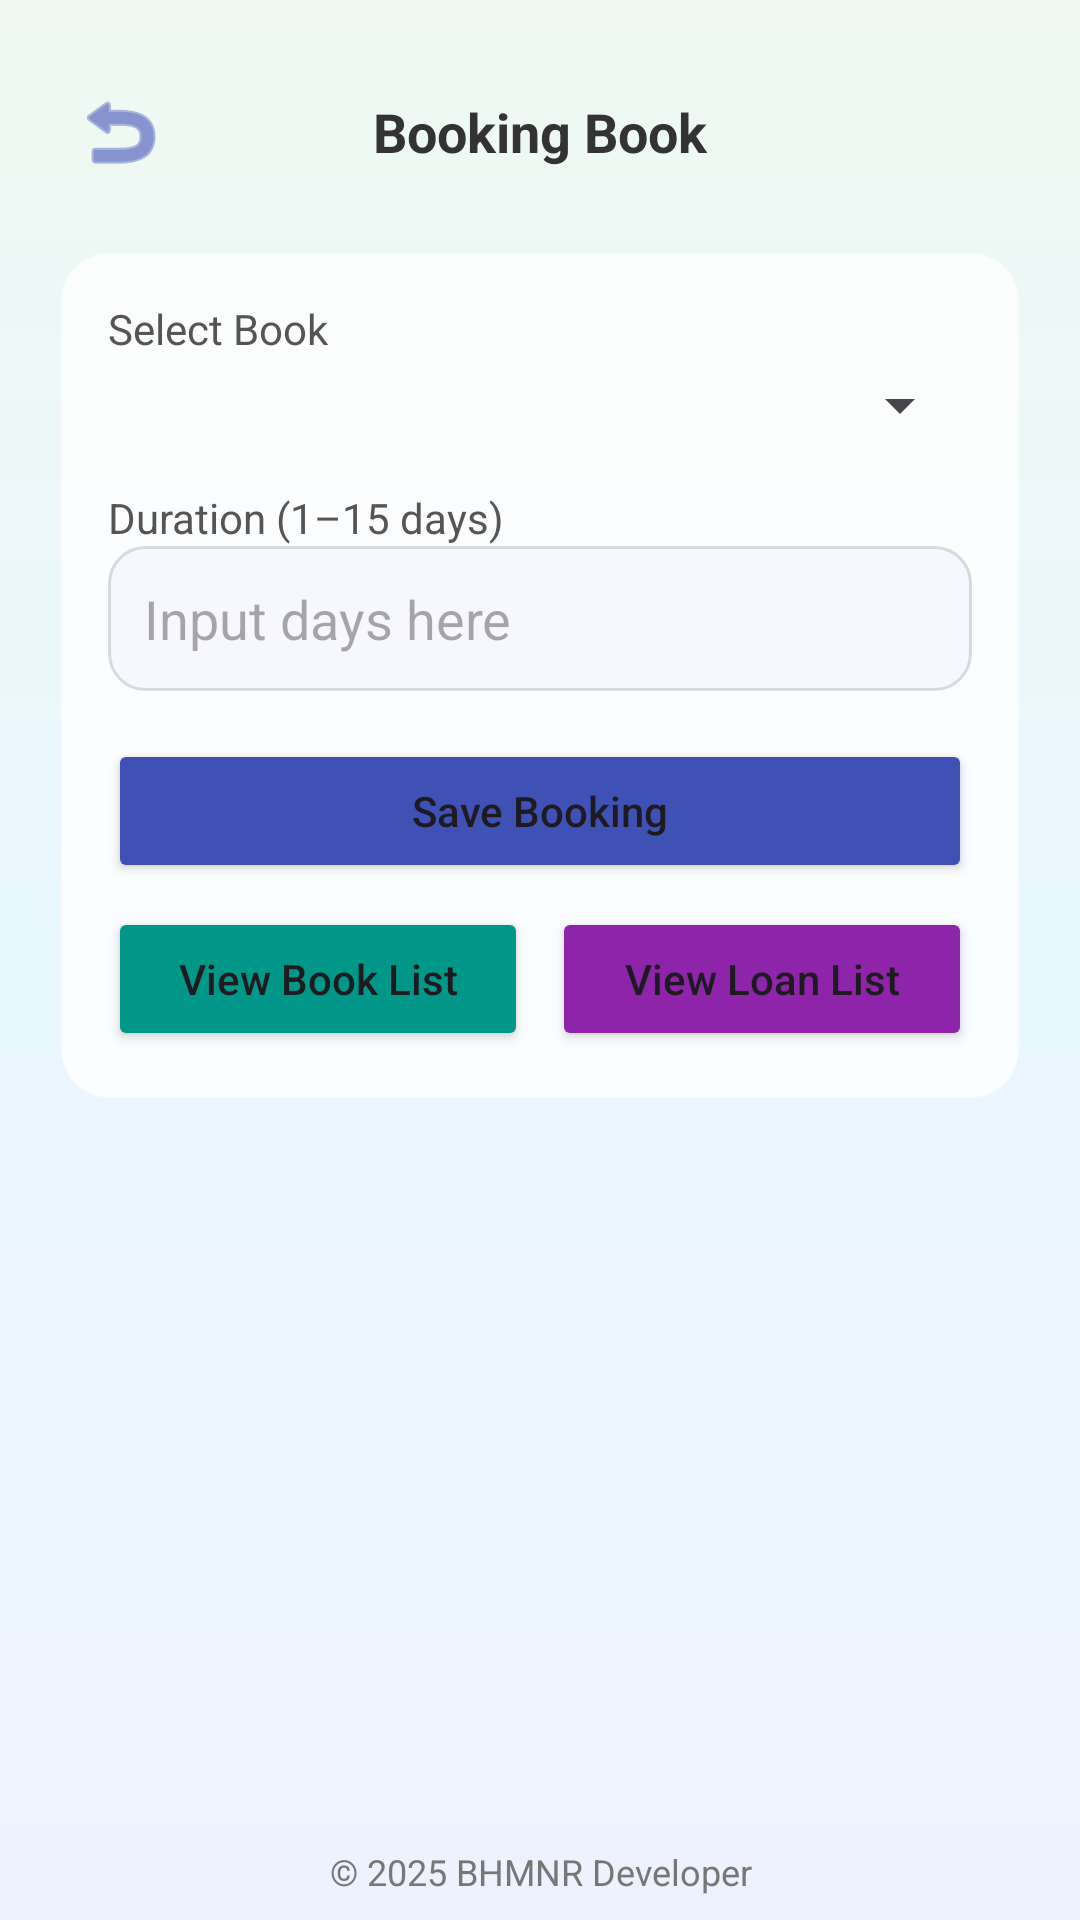

Locate icon controls on the screen. Image size 1080 x 1920, boxes as (x1, y1, x2, y2).
Back: (87, 101, 156, 164)
